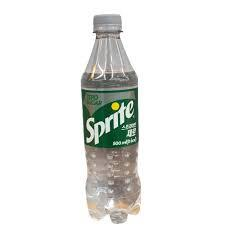sprite_zero: (77, 10, 143, 224)
